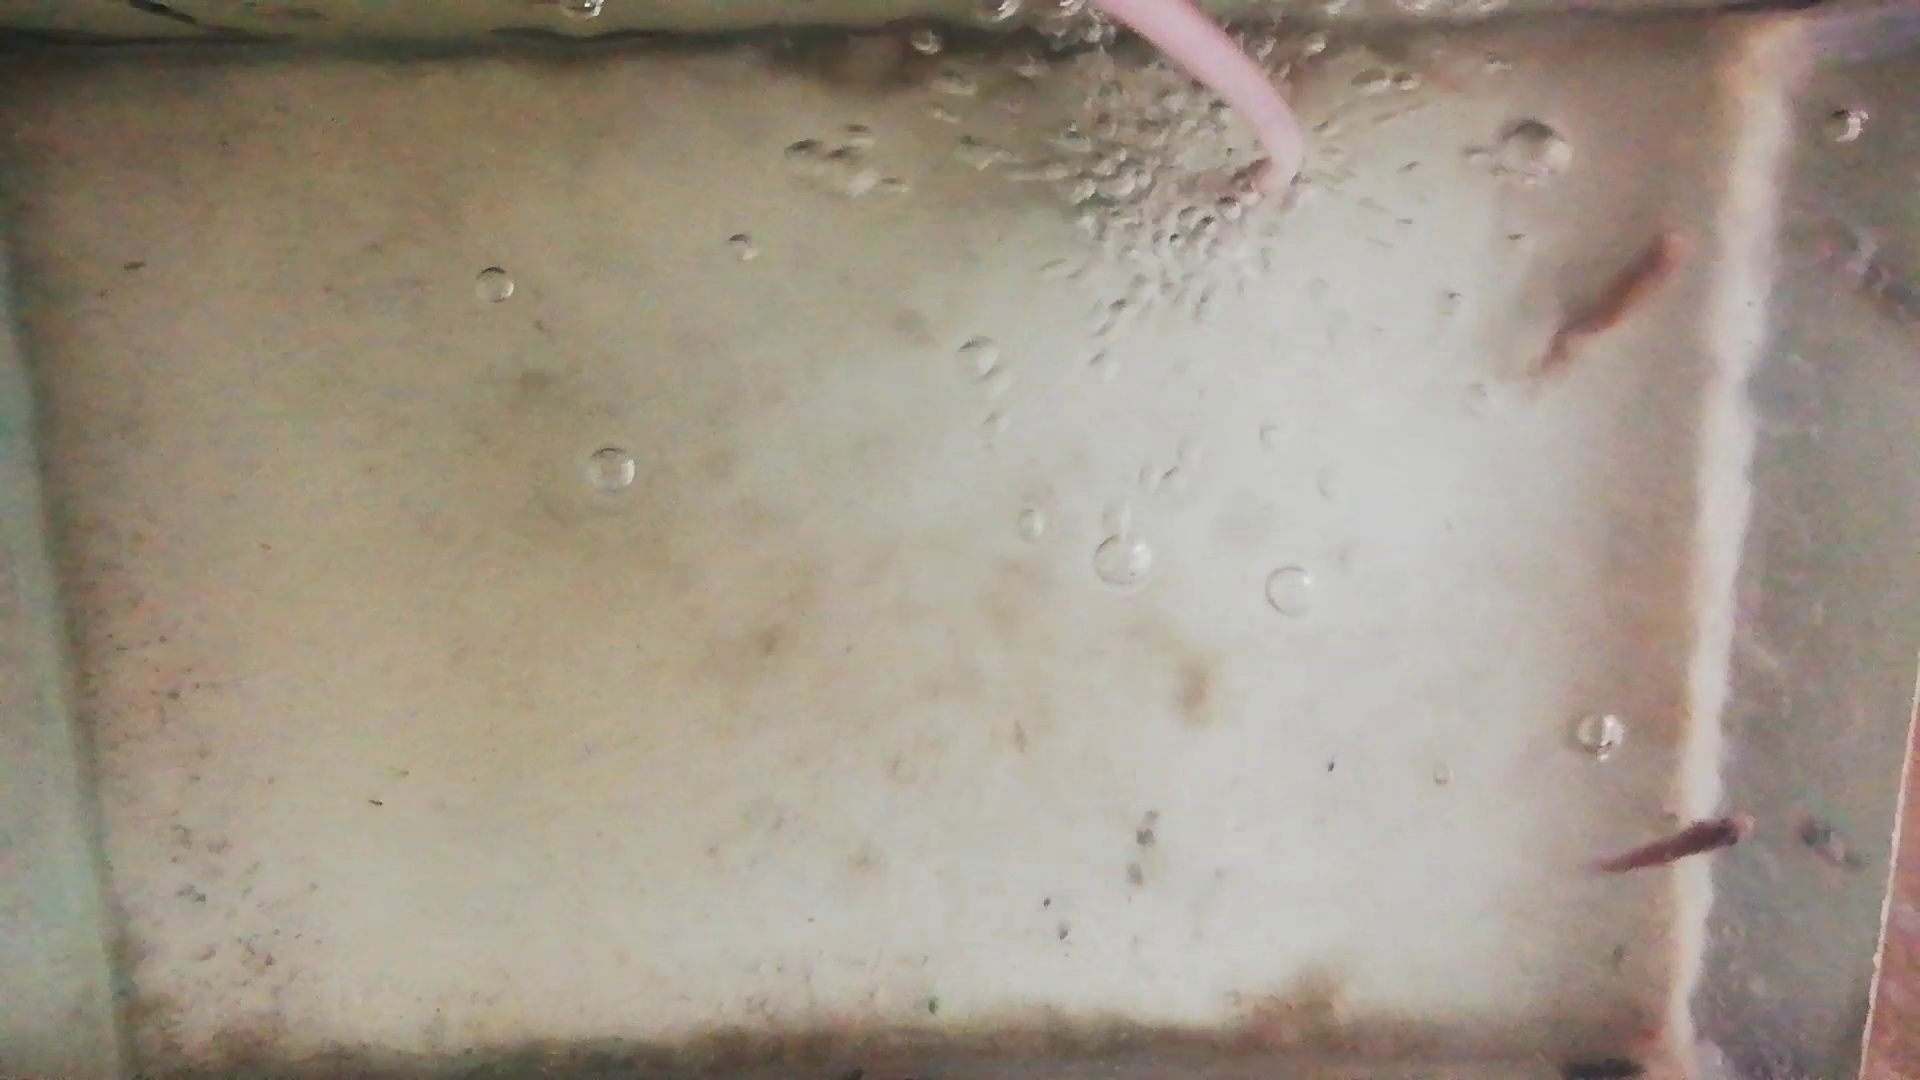fish: (1534, 225, 1691, 385), (1592, 812, 1751, 876)
